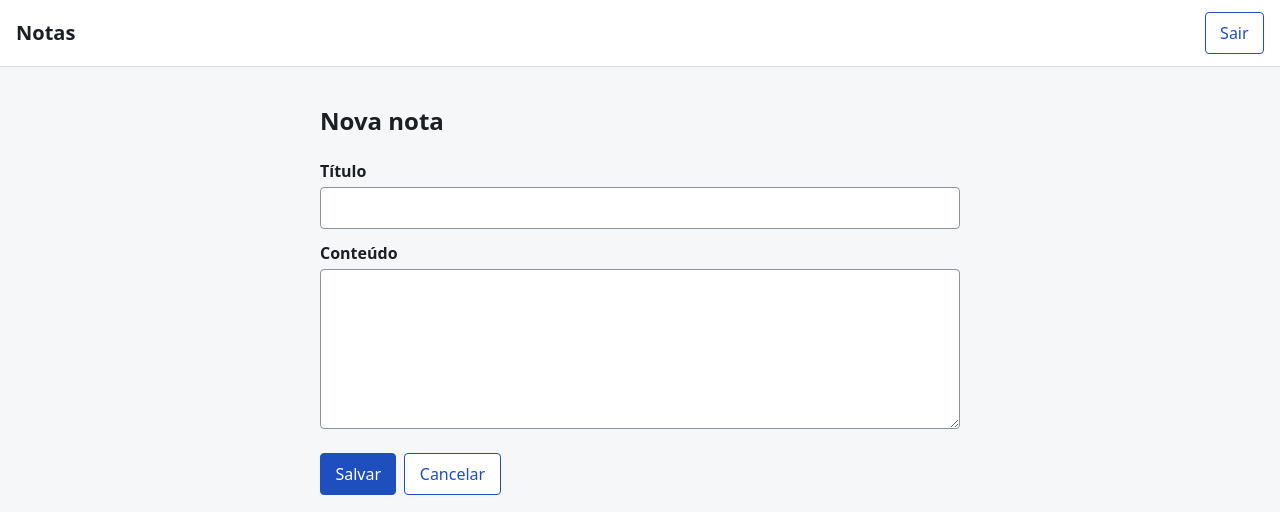
Test: formulário de nota › cria a nota com o corpo do contrato e volta à lista atualizada
In the field labelled "Título": (640, 208) [320,187,960,229], type "Ideias"
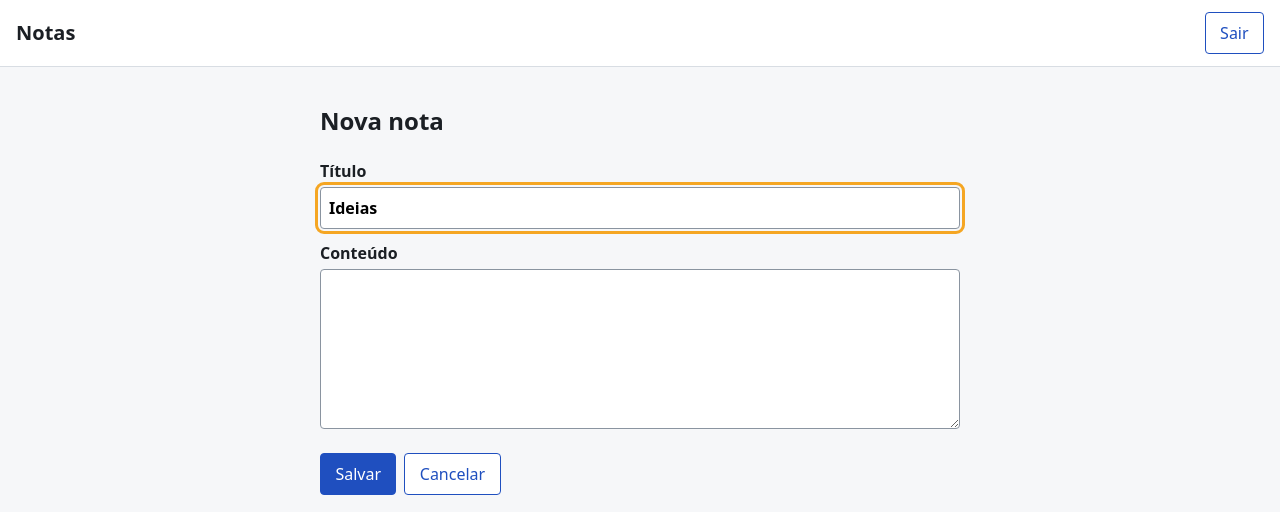
In the text box labelled "Conteúdo": (640, 349) [320,269,960,429], type "texto com acentuação"
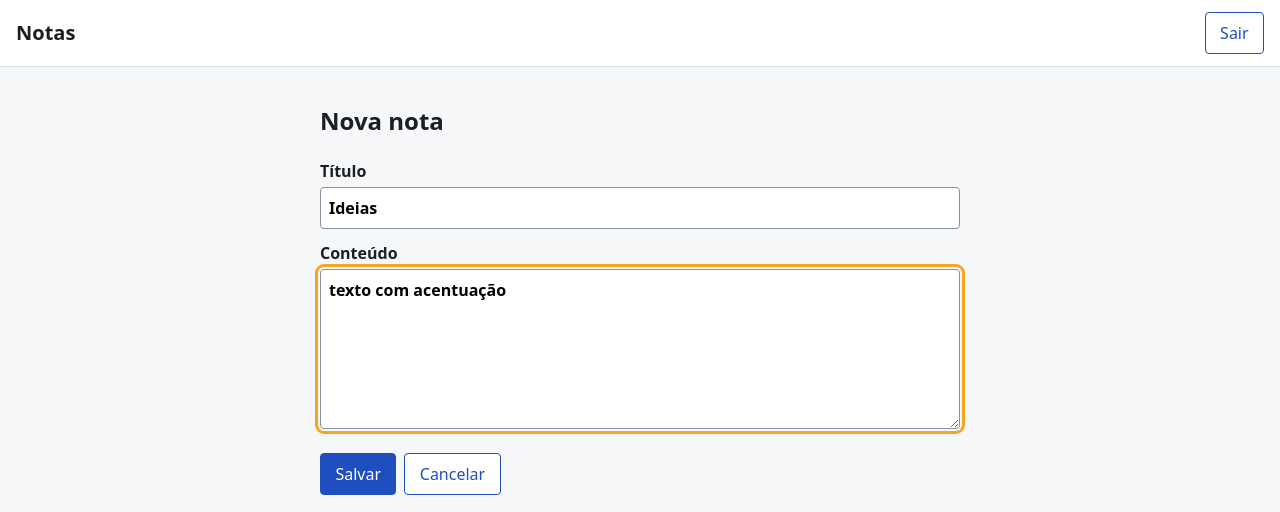
Click the button "Salvar": click(358, 474) [320,453,396,495]
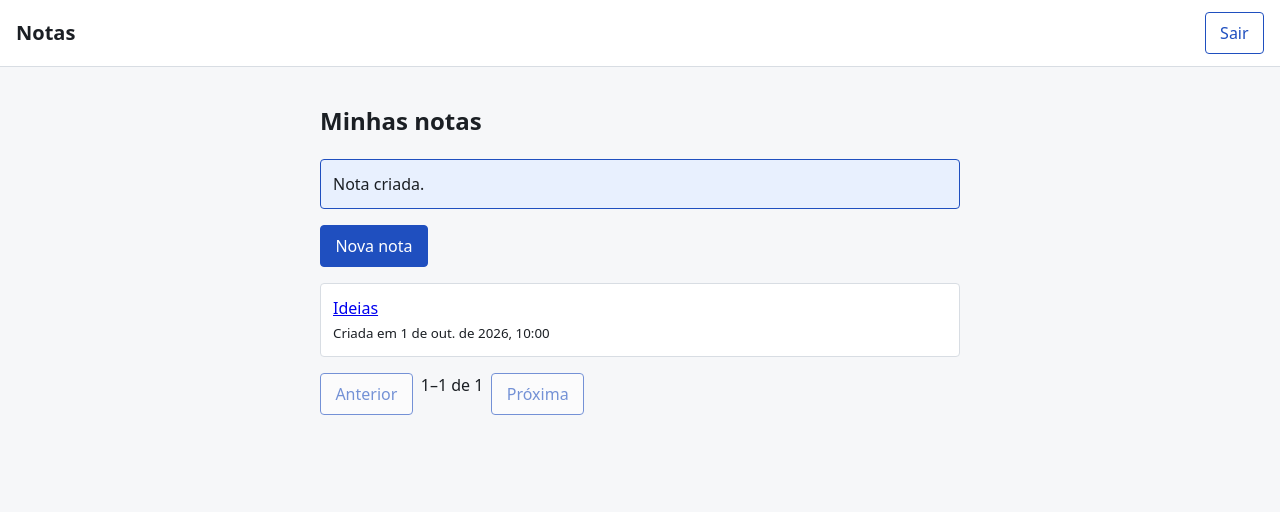
Check: the link "Ideias" is shown, box [333,297,378,319]
Check: the text "Nota criada." is shown, box [320,159,960,209]
